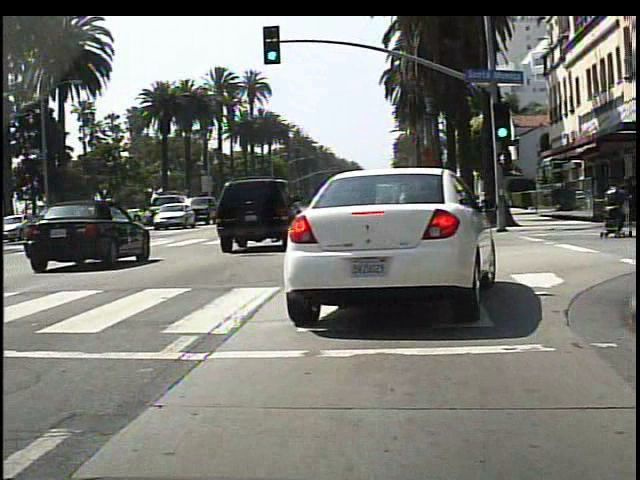person: (589, 163, 638, 241)
